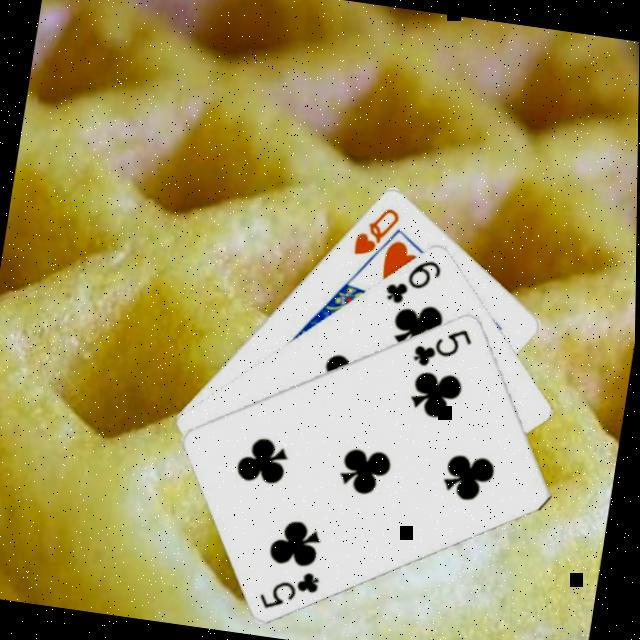5C: (409, 318, 478, 375), (256, 561, 325, 617)
6C: (380, 249, 446, 311)
QH: (348, 199, 403, 262)
